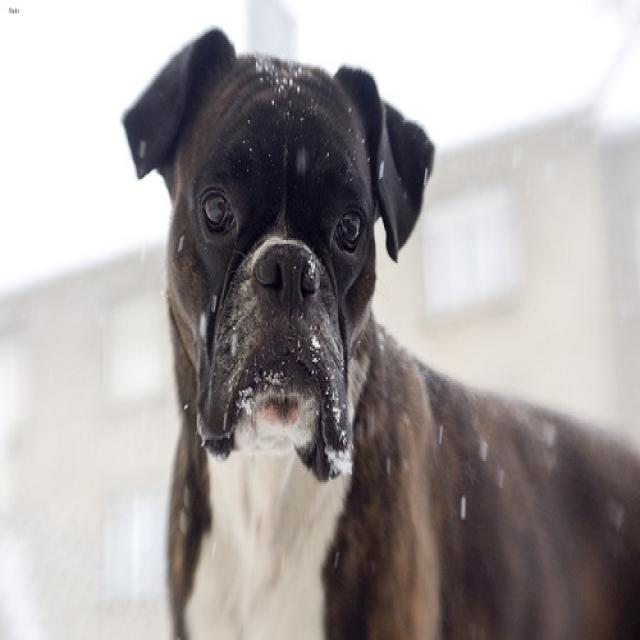dog-boxer: (115, 6, 637, 636)
